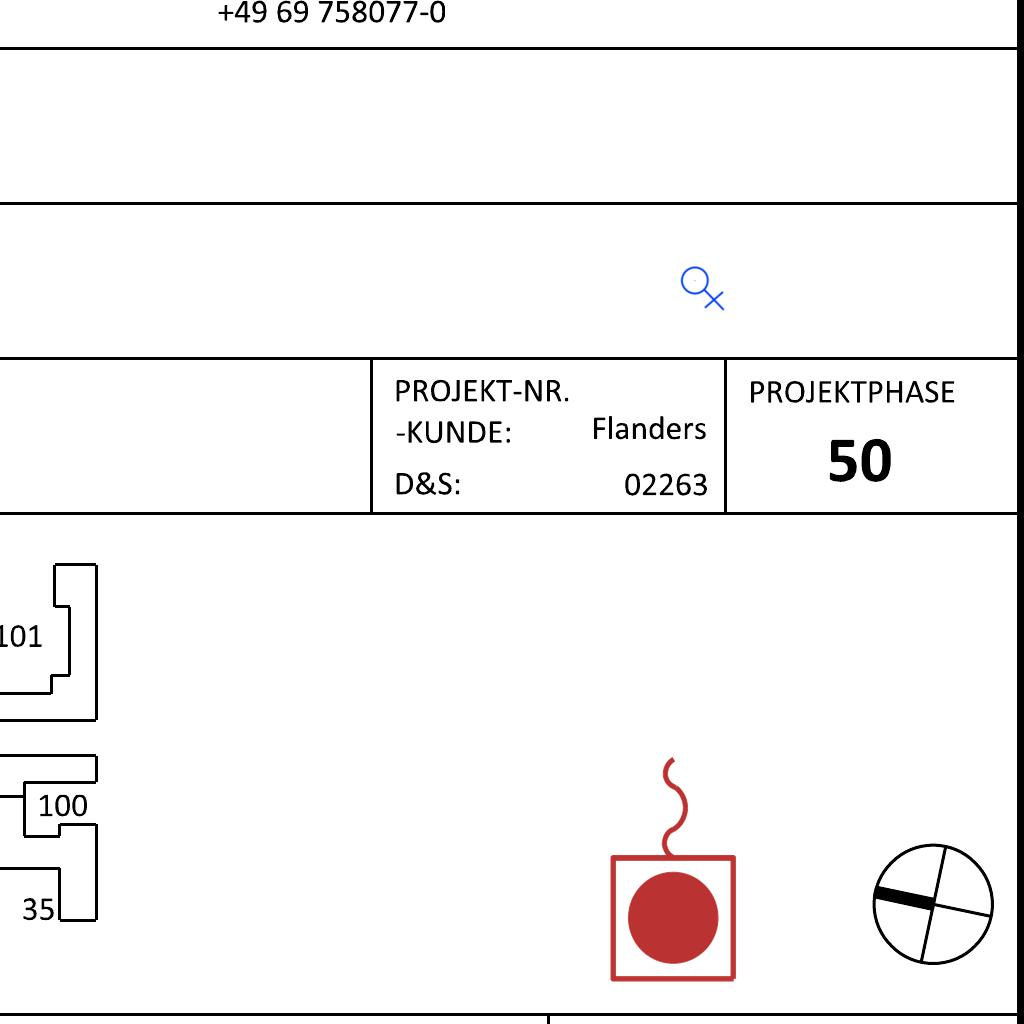Elektroanschluss_allgemein_230V_Geraeteanschlussdose_230V: (680, 262, 727, 311)
Zugtaster: (603, 746, 747, 990)
